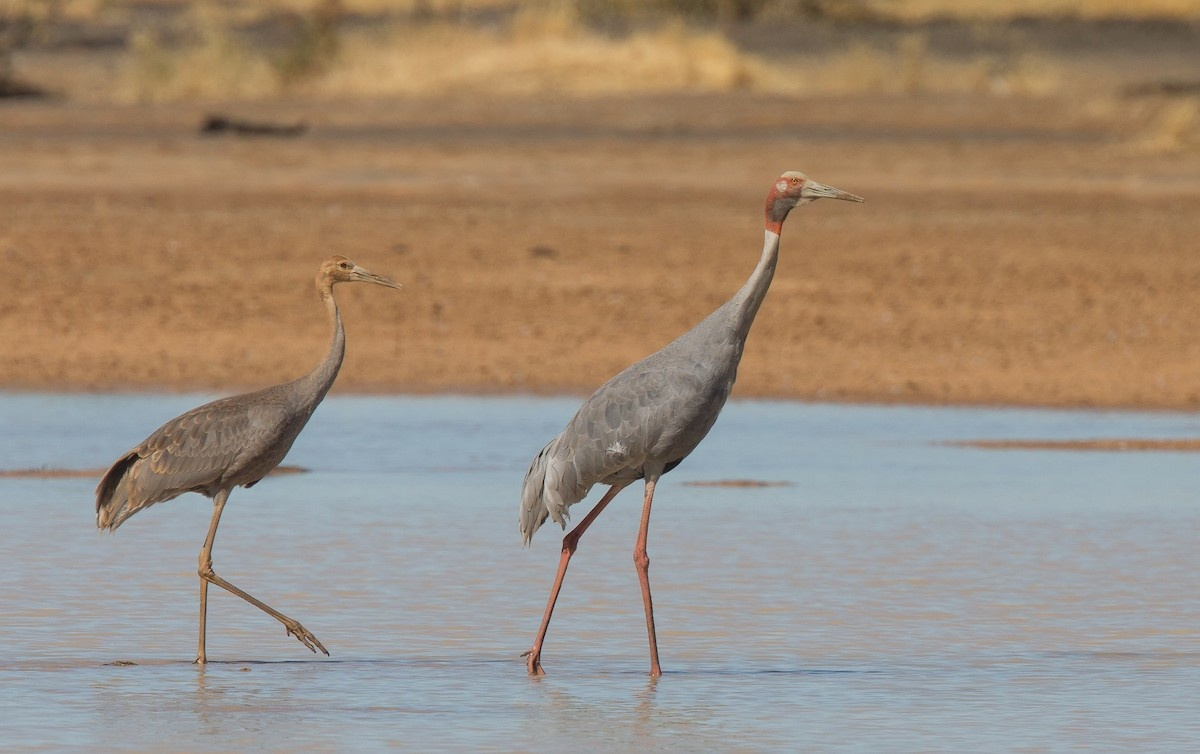crane: (497, 162, 876, 685), (64, 246, 412, 673)
